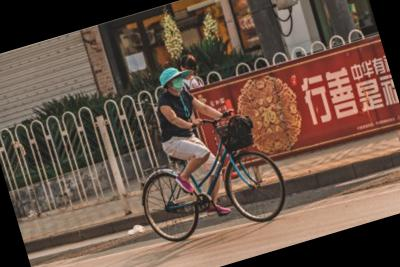with_mask: (166, 72, 186, 93)
without_mask: (186, 65, 200, 79)
